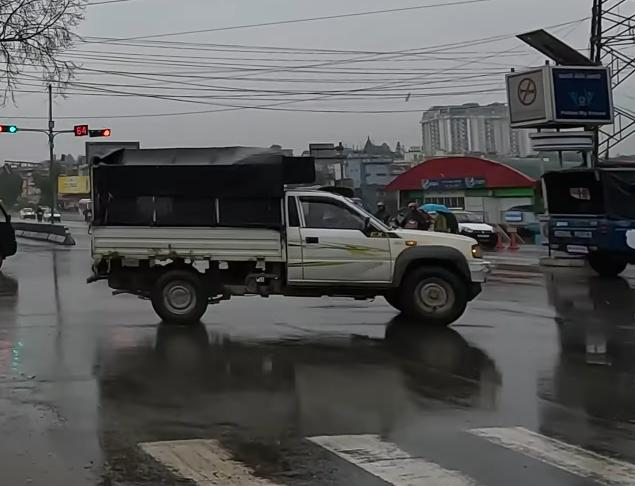transport_vehicle: (85, 133, 494, 340)
